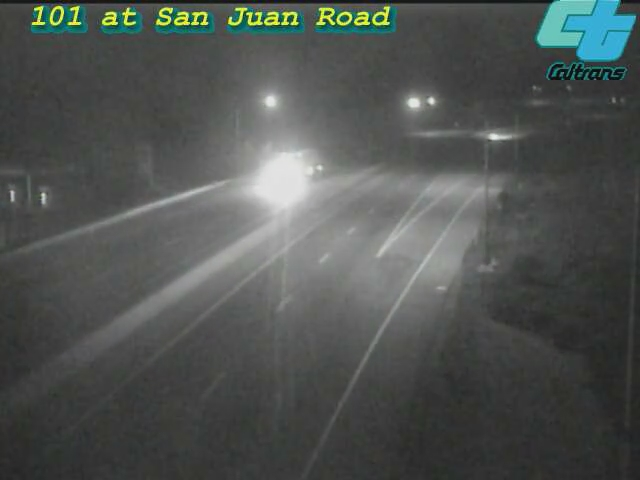vehicle: (249, 132, 329, 212), (472, 111, 522, 161)
